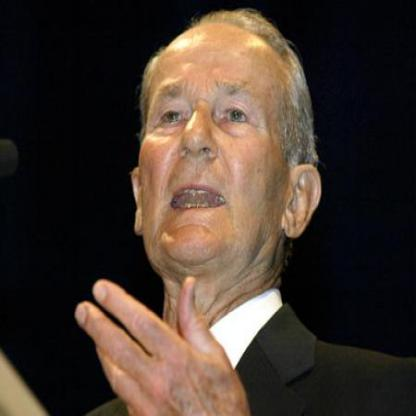face: (127, 17, 298, 282)
